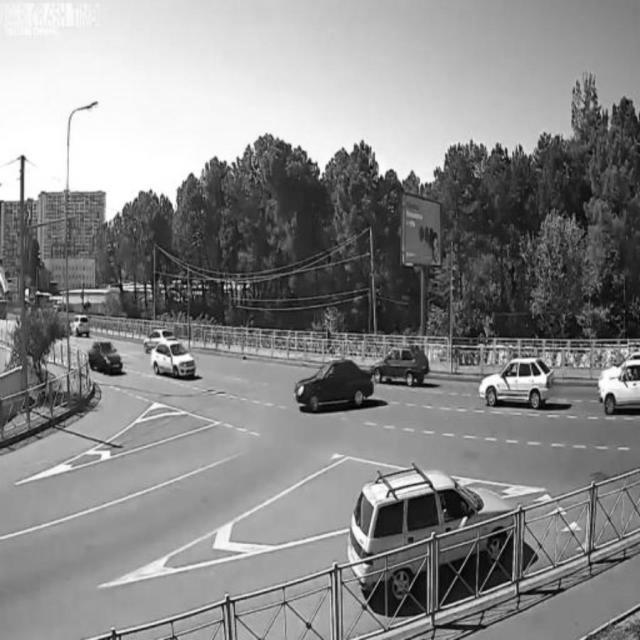vehicle: (348, 471, 515, 592), (294, 357, 375, 415), (478, 357, 555, 407), (375, 341, 430, 388), (601, 358, 640, 414), (152, 339, 198, 379), (86, 336, 124, 376), (69, 311, 91, 337)
